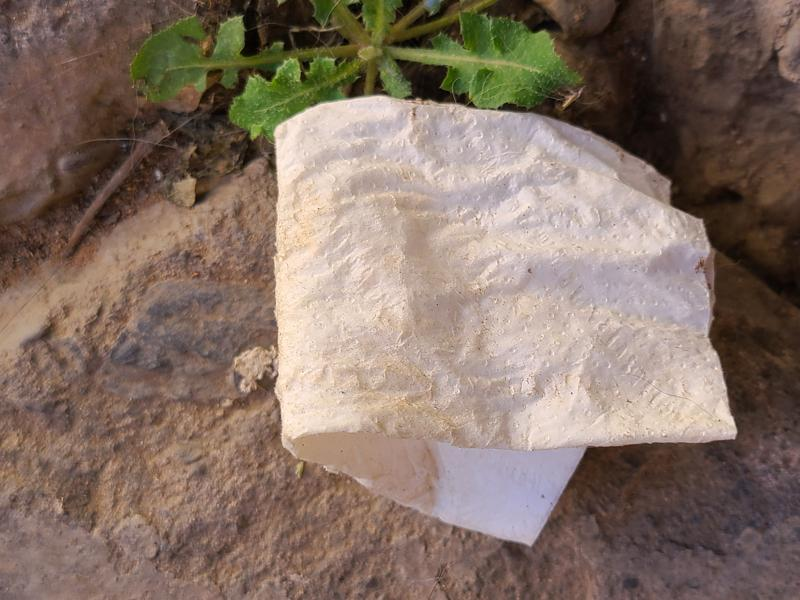papel: (271, 95, 739, 550)
